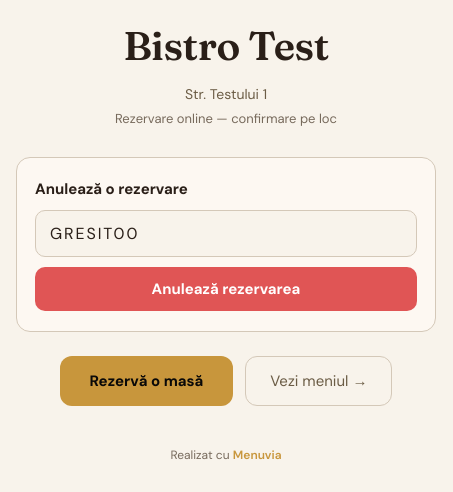
Scenario: ReservePage — anularea publică pe cod de confirmare › hint invalid_code → „Cod de confirmare invalid", fără ecran de succes
The width and height of the screenshot is (453, 492).
Click the button "Anulează rezervarea": [226, 289] box [35,267,417,311]
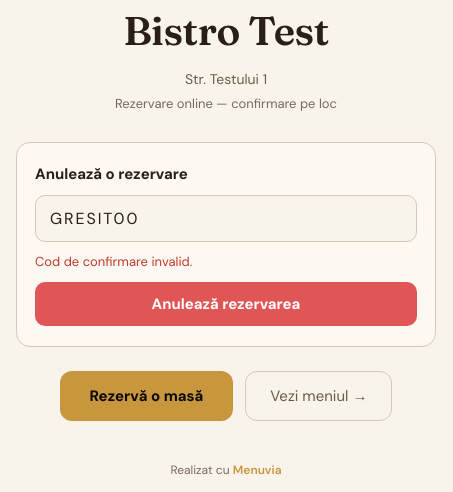
expect the message shows "Cod de confirmare invalid": met, box [35,253,192,270]
